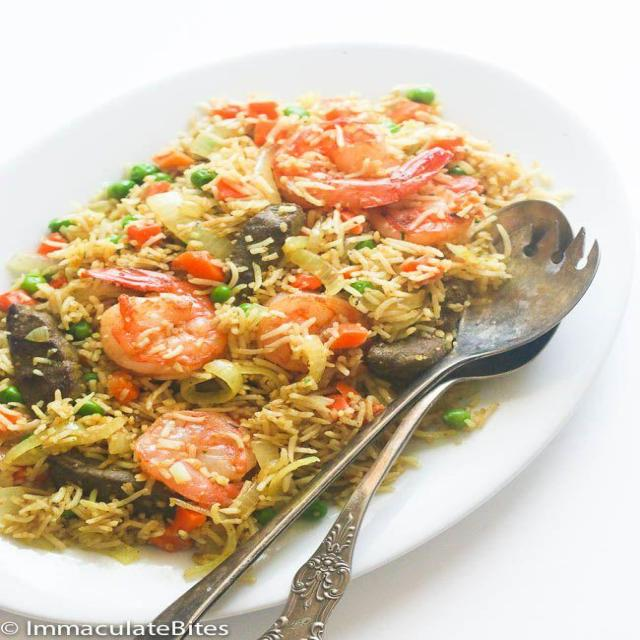Nasi Goreng: (1, 84, 560, 573)
